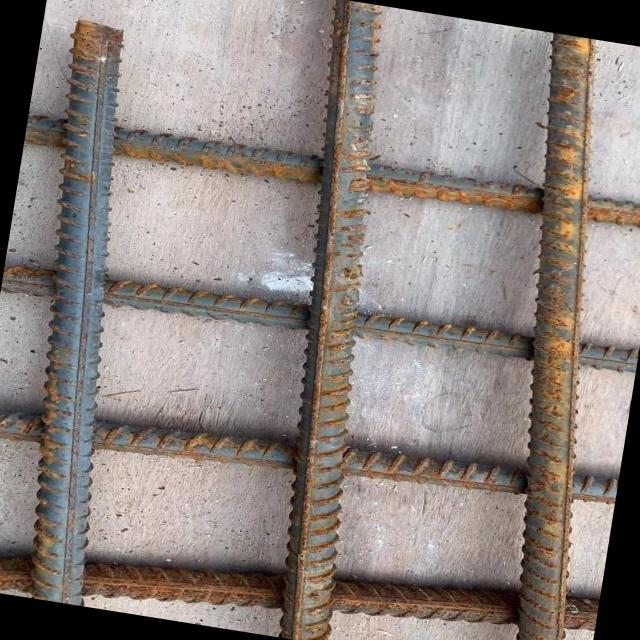ribbed bar: (229, 0, 430, 640), (446, 32, 640, 640), (0, 372, 619, 539), (0, 16, 175, 605), (1, 248, 638, 390), (0, 494, 599, 640), (24, 106, 640, 243)
